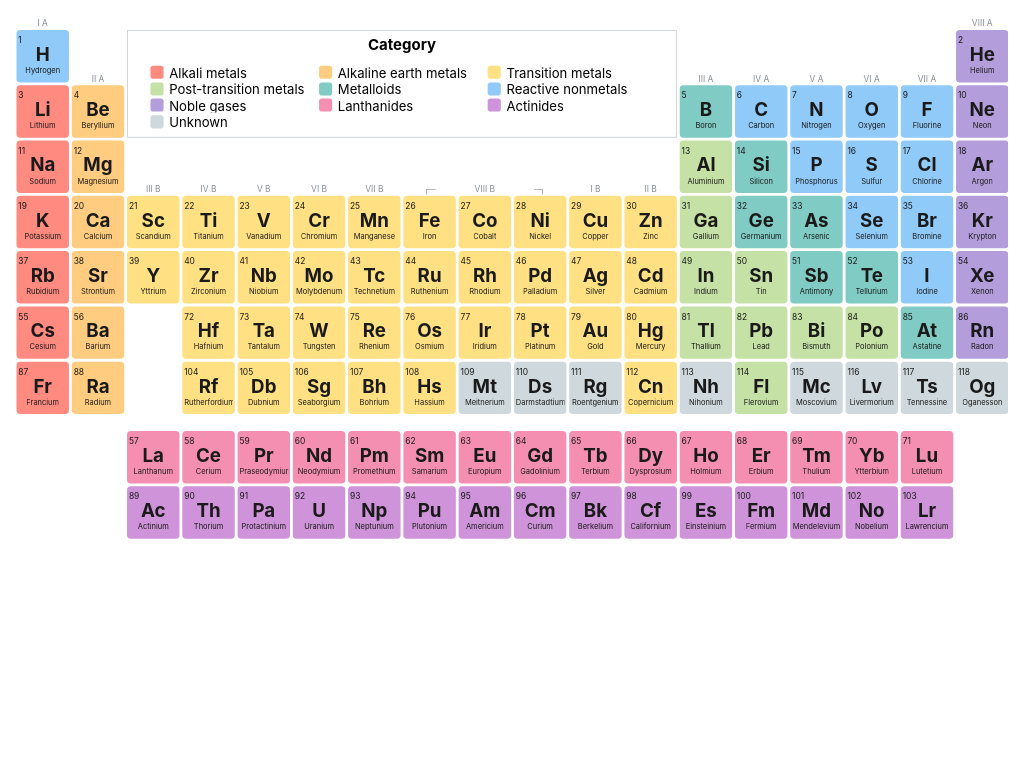
Test case: PeriodicTable selection after scaling › closes the detail on dismiss while keeping the scaled grid mounted
Click the button "6 C Carbon": (761, 112) [734,85,787,138]
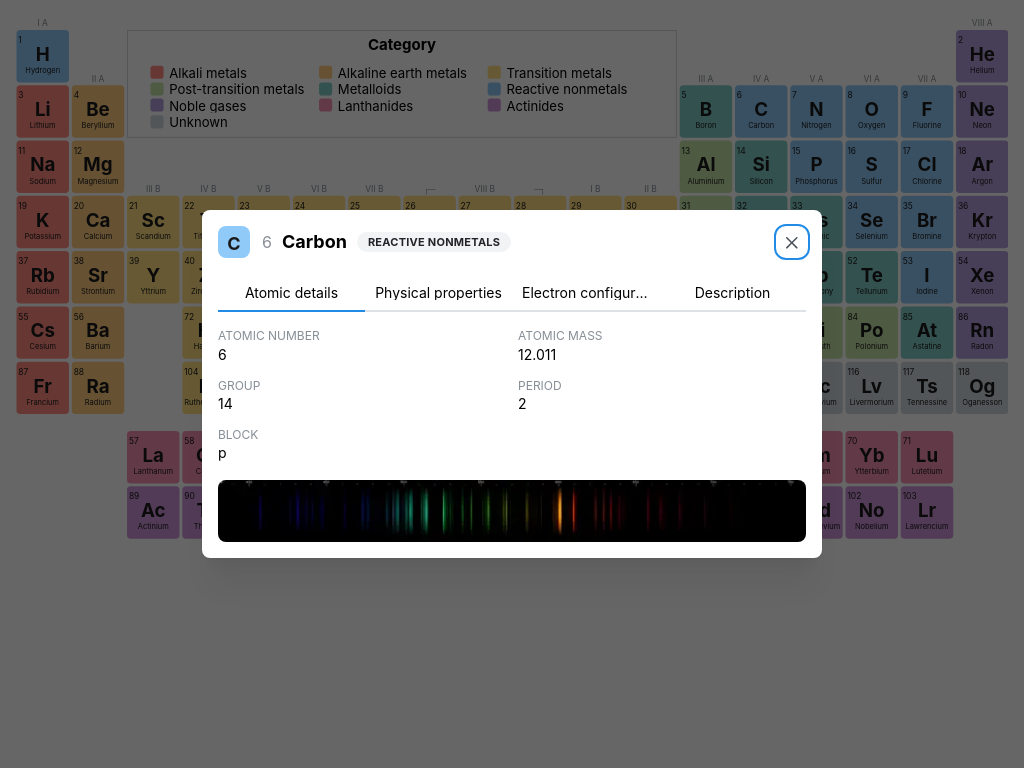
Note: Both the Modal and the Drawer render an accessible "Close" button.
Click the button named "close": (792, 242) [778,228,806,256]
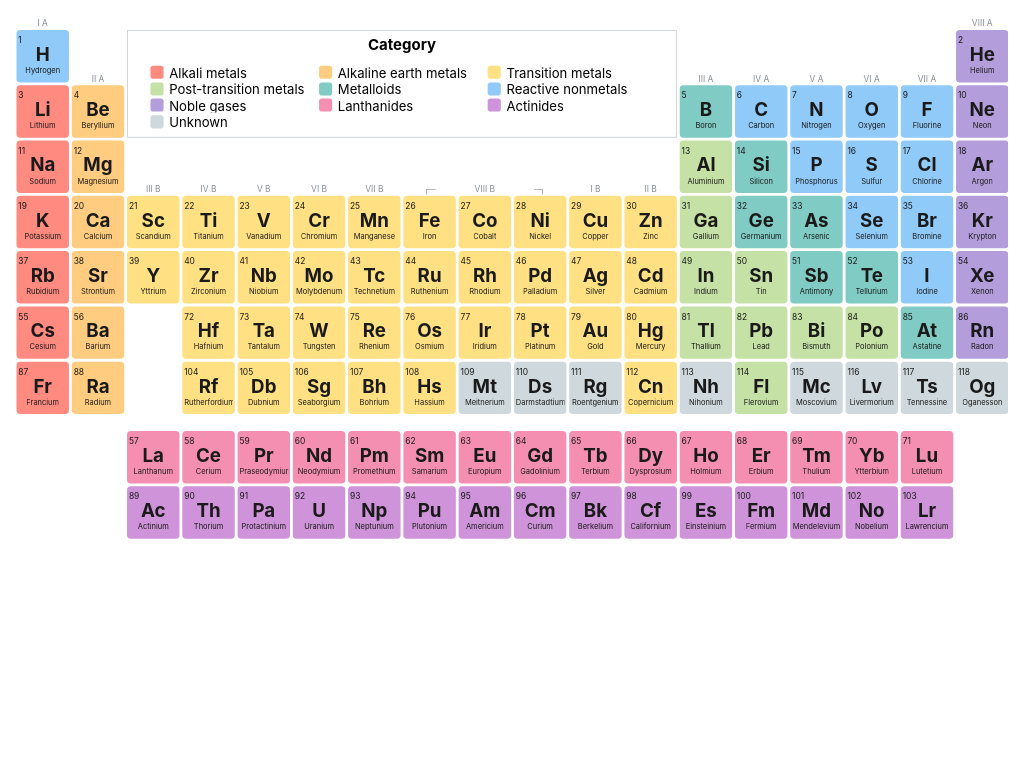
Now the dialog is gone
